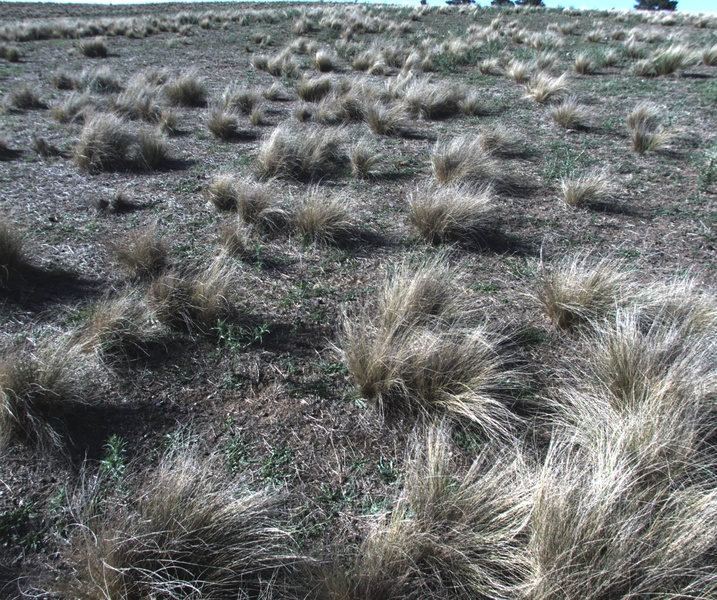st: (117, 459, 293, 600), (385, 451, 545, 588), (570, 336, 695, 469), (516, 459, 624, 600), (608, 483, 716, 600), (627, 278, 717, 385), (1, 342, 90, 448), (343, 320, 424, 411), (384, 260, 476, 333), (418, 325, 488, 420), (151, 253, 235, 331), (399, 185, 487, 244), (541, 259, 616, 325), (84, 299, 159, 363), (99, 230, 172, 282), (76, 119, 135, 177), (426, 143, 487, 193), (296, 127, 349, 180), (288, 192, 345, 239), (111, 91, 168, 133), (1, 220, 35, 286), (526, 70, 577, 111), (261, 127, 301, 178), (404, 79, 455, 118), (233, 185, 275, 231), (345, 141, 385, 186), (368, 95, 403, 144), (164, 71, 210, 108), (555, 175, 604, 208), (135, 132, 169, 172), (201, 111, 242, 144), (546, 101, 583, 136), (203, 180, 241, 214), (471, 121, 503, 157), (71, 36, 113, 63), (654, 43, 684, 78), (626, 103, 660, 132), (6, 85, 41, 113), (300, 75, 337, 100), (319, 91, 349, 121), (394, 56, 422, 87), (272, 52, 303, 80), (46, 67, 79, 93), (51, 95, 85, 120), (83, 71, 118, 95), (509, 59, 536, 90), (225, 83, 255, 110), (630, 127, 657, 155), (162, 106, 184, 139), (295, 9, 317, 40), (631, 57, 658, 82), (368, 51, 393, 77), (460, 94, 487, 118), (479, 54, 506, 78), (258, 80, 285, 103), (314, 48, 337, 75), (624, 36, 652, 58), (417, 49, 437, 75), (250, 111, 272, 134), (538, 51, 562, 72), (448, 36, 470, 57), (576, 53, 596, 74), (2, 47, 27, 63), (296, 102, 313, 124), (250, 30, 272, 47), (250, 53, 269, 72), (701, 44, 717, 63), (604, 50, 619, 70)
